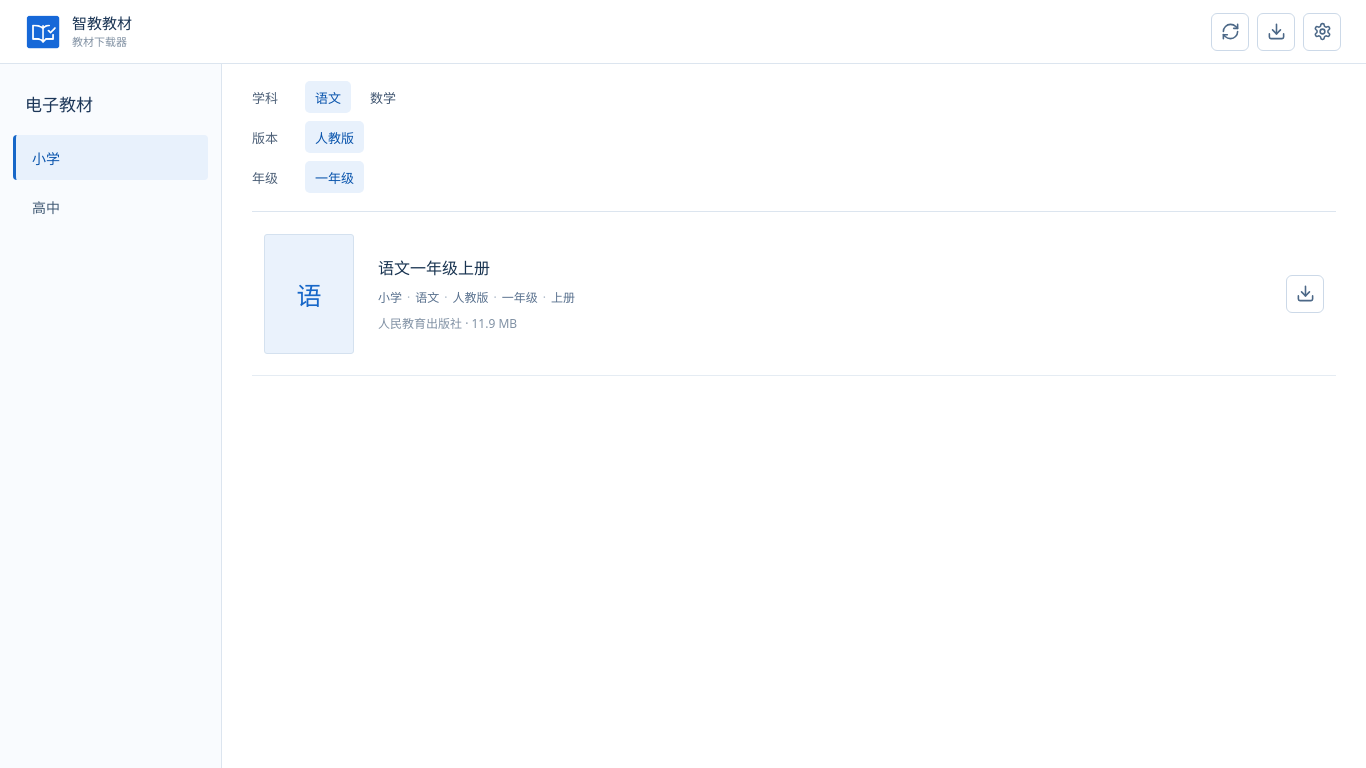
CatalogScreen › clears invalid child filters when the school stage changes
This screenshot has width=1366, height=768.
Click the radio button labelled "小学" at {"x": 110, "y": 158}, box [13,135,208,180]
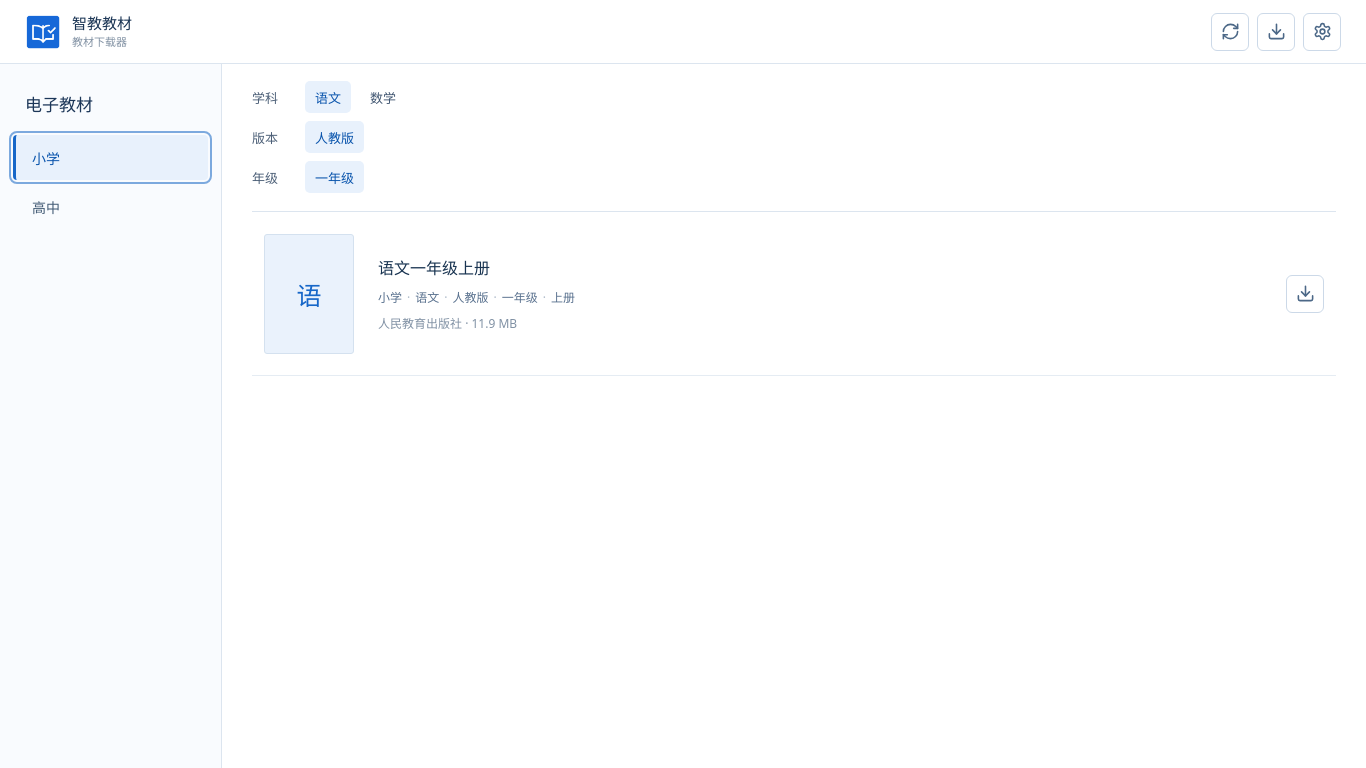
Click the radio button labelled "一年级" at {"x": 334, "y": 177}, box [305,161,364,193]
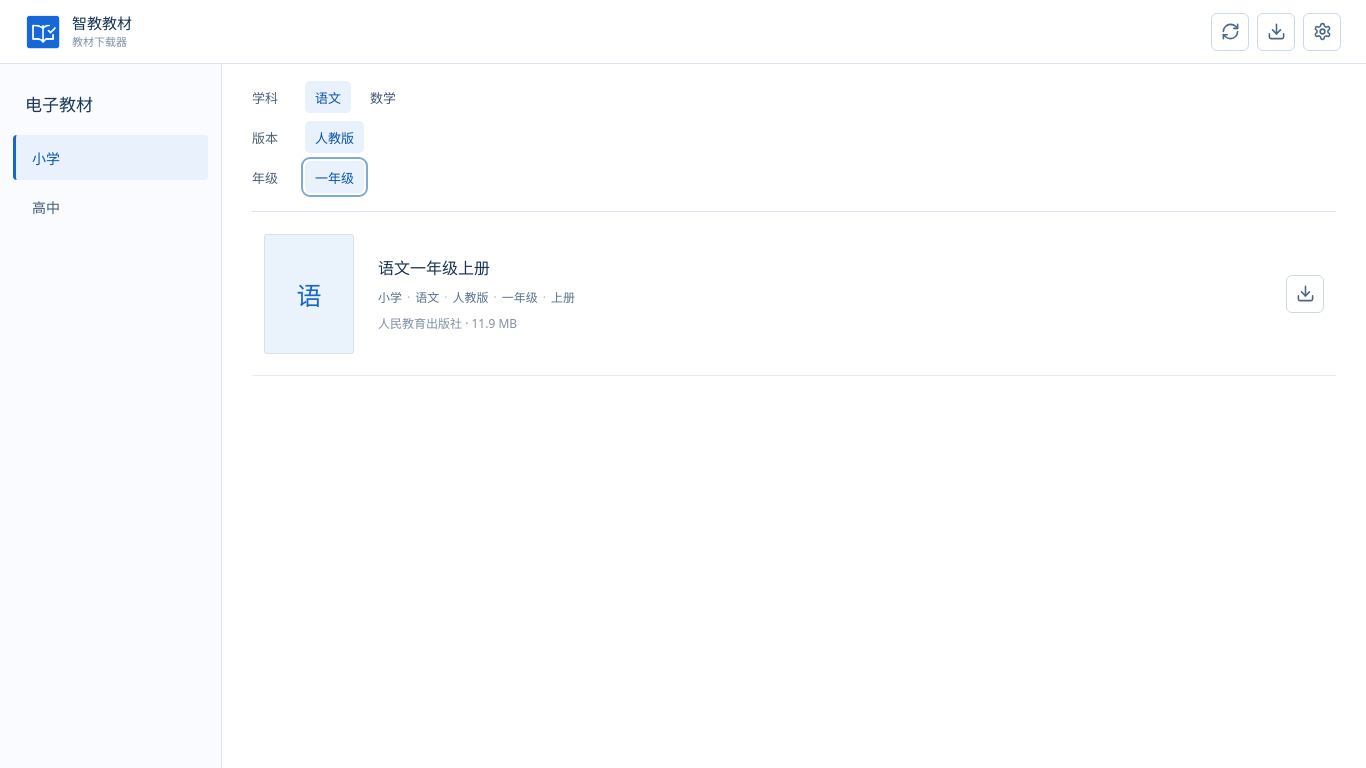
Click the radio button labelled "高中" at {"x": 46, "y": 207}, box [32,198,60,216]
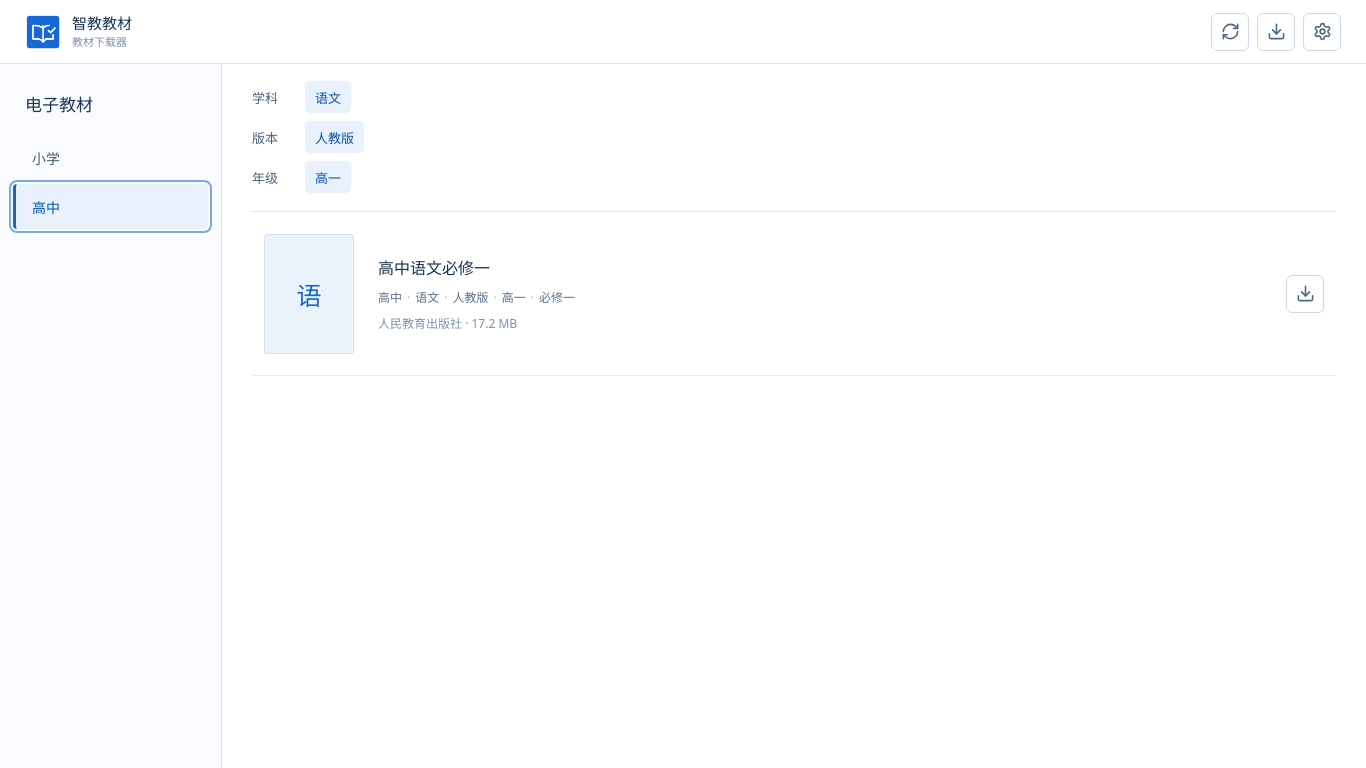
expect the radio button labelled "高一" is checked: met, box [305,161,351,193]
expect the radio button labelled "一年级" is gone: met
